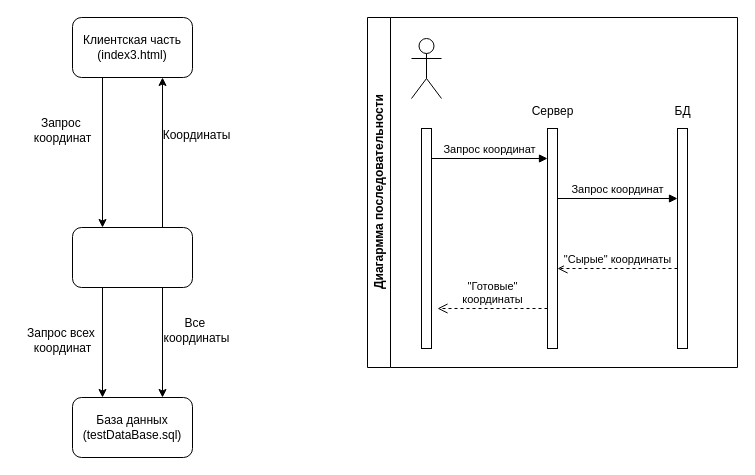
This 755x475 diagram has some shape labels left out. The centre of each missing label's shape, as x and y in pixels:
"Клиент" goes at [426,68].
"Серверная часть (app.py)" goes at [132,257].
